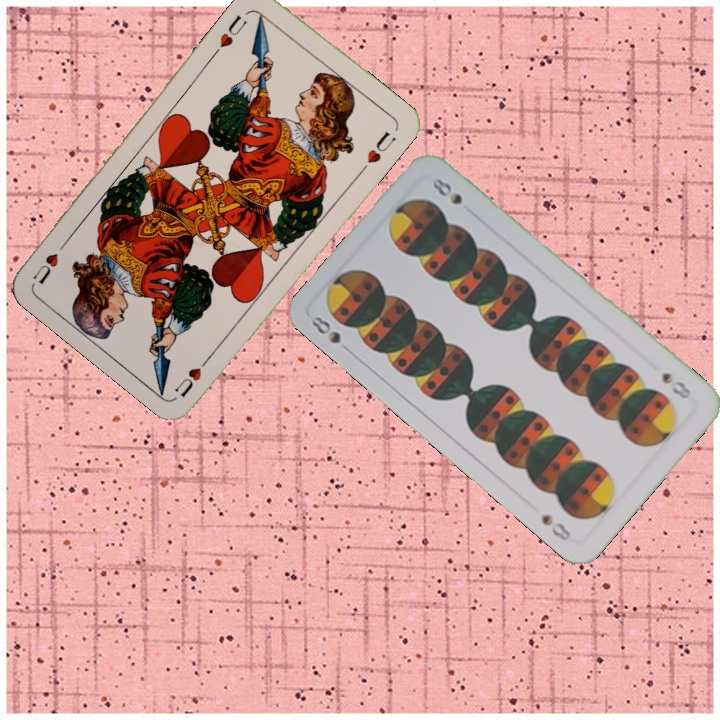HU: (170, 349, 215, 400), (215, 11, 250, 50)
S8: (307, 311, 356, 357), (658, 368, 695, 402)
